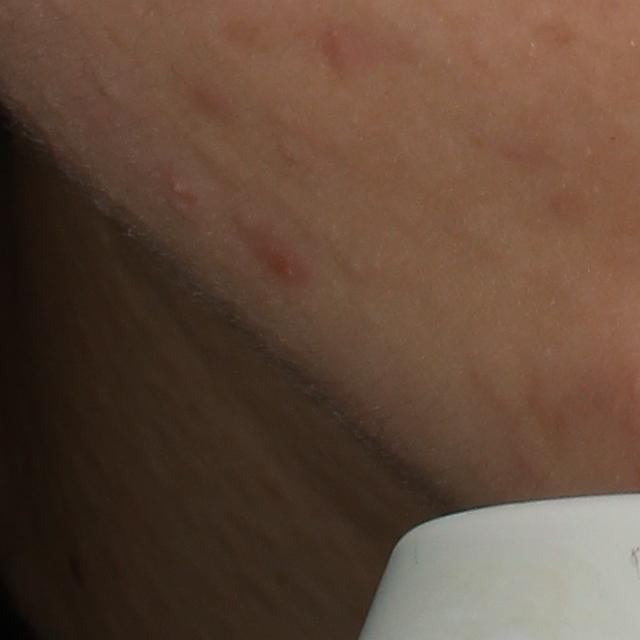papule: (249, 239, 313, 282), (167, 178, 187, 199)
